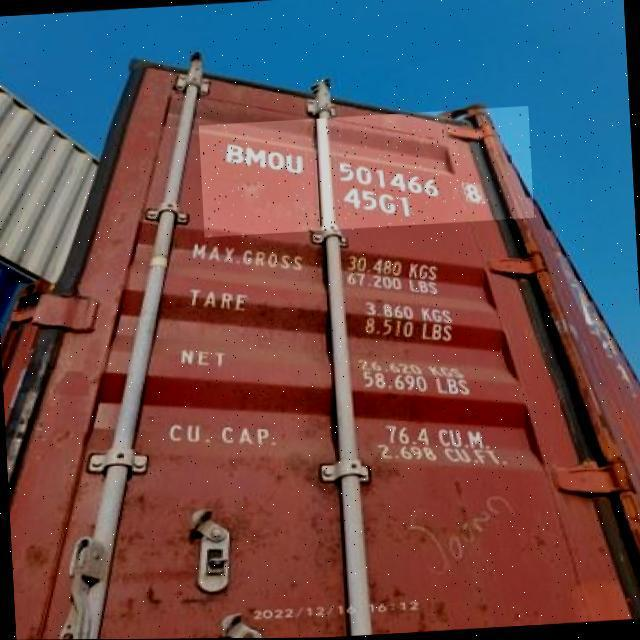container_number_h: (199, 107, 537, 240)
